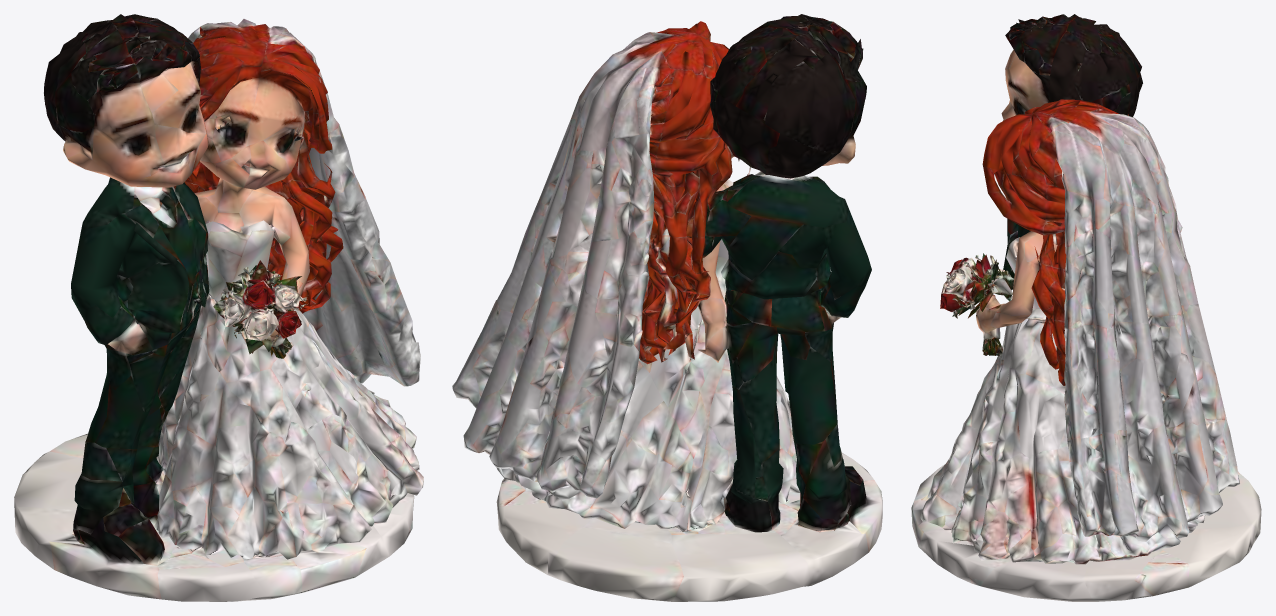
The picture shows the model from 3 angles, left to right: view 1: azimuth 30°, elevation 25°; view 2: azimuth 150°, elevation 25°; view 3: azimuth 270°, elevation 25°; orthographic projection. The views are drawn at different scales.
Size of the model in its own units: 1.5 by 1.9 by 1.29.
1 material, 1 textured.
